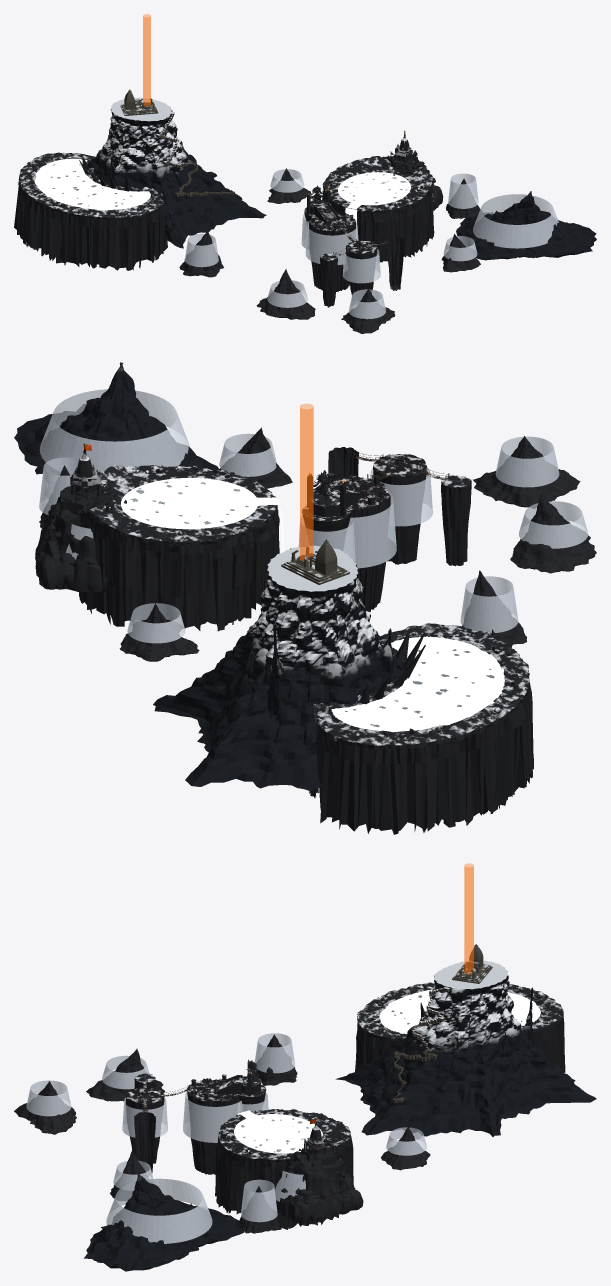
File: charnel_ridge.glb
The picture shows the model from 3 angles, top to bottom: view 1: azimuth 30°, elevation 25°; view 2: azimuth 150°, elevation 25°; view 3: azimuth 270°, elevation 25°; orthographic projection. The views are drawn at different scales.
Visible parts, largest first — view 1: Environment_Beacon_Cliff, Lake_RakshasTal_Shore, Environment_Peak_03, Lake_Manasarovar_Shore, Water_RakshasTal, Vista_Mist_Foot_03, Ground_CharnelRidge, Water_Manasarovar, Vista_Pinnacle_06, Terrain_SpawnCrag_SW, Vista_Pinnacle_05, Vista_Pinnacle_08 (+17 smaller); view 2: Environment_Beacon_Cliff, Lake_RakshasTal_Shore, Lake_Manasarovar_Shore, Environment_Peak_03, Water_RakshasTal, Vista_Shrine_01, Vista_Mist_Foot_03, Water_Manasarovar, Vista_Pinnacle_05, Ground_CharnelRidge, Vista_Pinnacle_06, Terrain_SpawnCrag_SW (+18 smaller); view 3: Environment_Beacon_Cliff, Environment_Peak_03, Lake_Manasarovar_Shore, Vista_Shrine_01, Lake_RakshasTal_Shore, Vista_Mist_Foot_03, Ground_CharnelRidge, Water_Manasarovar, Water_RakshasTal, Vista_Pinnacle_05, Vista_Mist_Collar_1, Vista_Pinnacle_06 (+17 smaller).
Part boxes in pixels (x1=…): Environment_Beacon_Cliff: x1=88, y1=97, x2=266, y2=248; Lake_RakshasTal_Shore: x1=14, y1=152, x2=167, y2=270; Environment_Peak_03: x1=456, y1=191, x2=596, y2=260; Lake_Manasarovar_Shore: x1=322, y1=156, x2=434, y2=262; Water_RakshasTal: x1=34, y1=158, x2=150, y2=210; Vista_Mist_Foot_03: x1=473, y1=194, x2=558, y2=248; Ground_CharnelRidge: x1=309, y1=212, x2=356, y2=291; Water_Manasarovar: x1=338, y1=172, x2=410, y2=209; Vista_Pinnacle_06: x1=256, y1=269, x2=315, y2=319; Terrain_SpawnCrag_SW: x1=345, y1=240, x2=377, y2=300; Vista_Pinnacle_05: x1=341, y1=288, x2=395, y2=333; Vista_Pinnacle_08: x1=179, y1=231, x2=223, y2=277; Environment_Beacon_Cliff: x1=153, y1=545, x2=404, y2=790; Lake_RakshasTal_Shore: x1=309, y1=623, x2=533, y2=834; Lake_Manasarovar_Shore: x1=79, y1=465, x2=279, y2=632; Environment_Peak_03: x1=14, y1=362, x2=219, y2=499; Water_RakshasTal: x1=331, y1=636, x2=504, y2=732; Vista_Shrine_01: x1=35, y1=443, x2=126, y2=592; Vista_Mist_Foot_03: x1=39, y1=389, x2=189, y2=474; Water_Manasarovar: x1=121, y1=478, x2=278, y2=529; Vista_Pinnacle_05: x1=473, y1=436, x2=580, y2=508; Ground_CharnelRidge: x1=313, y1=477, x2=390, y2=611; Vista_Pinnacle_06: x1=510, y1=493, x2=596, y2=573; Terrain_SpawnCrag_SW: x1=373, y1=454, x2=426, y2=564; Environment_Beacon_Cliff: x1=335, y1=960, x2=596, y2=1136; Environment_Peak_03: x1=84, y1=1172, x2=244, y2=1271; Lake_Manasarovar_Shore: x1=215, y1=1109, x2=353, y2=1230; Vista_Shrine_01: x1=275, y1=1118, x2=363, y2=1222; Lake_RakshasTal_Shore: x1=355, y1=982, x2=565, y2=1088; Vista_Mist_Foot_03: x1=106, y1=1178, x2=212, y2=1243; Ground_CharnelRidge: x1=188, y1=1079, x2=241, y2=1174; Water_Manasarovar: x1=234, y1=1110, x2=322, y2=1153; Water_RakshasTal: x1=379, y1=989, x2=540, y2=1033; Vista_Pinnacle_05: x1=14, y1=1081, x2=76, y2=1134; Vista_Mist_Collar_1: x1=183, y1=1091, x2=242, y2=1142; Vista_Pinnacle_06: x1=86, y1=1048, x2=164, y2=1101.
Size of what is drawn, in the model's own units: 247 by 117 by 242.
53 materials, 38 textured.
